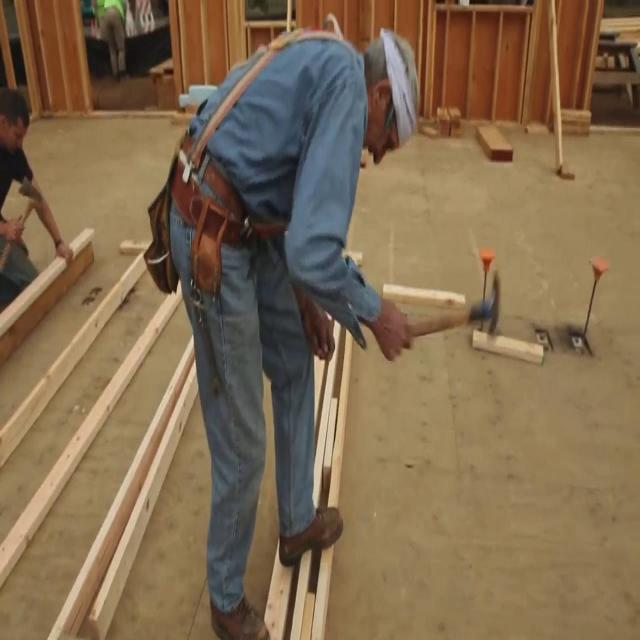hammer: (409, 271, 502, 339)
